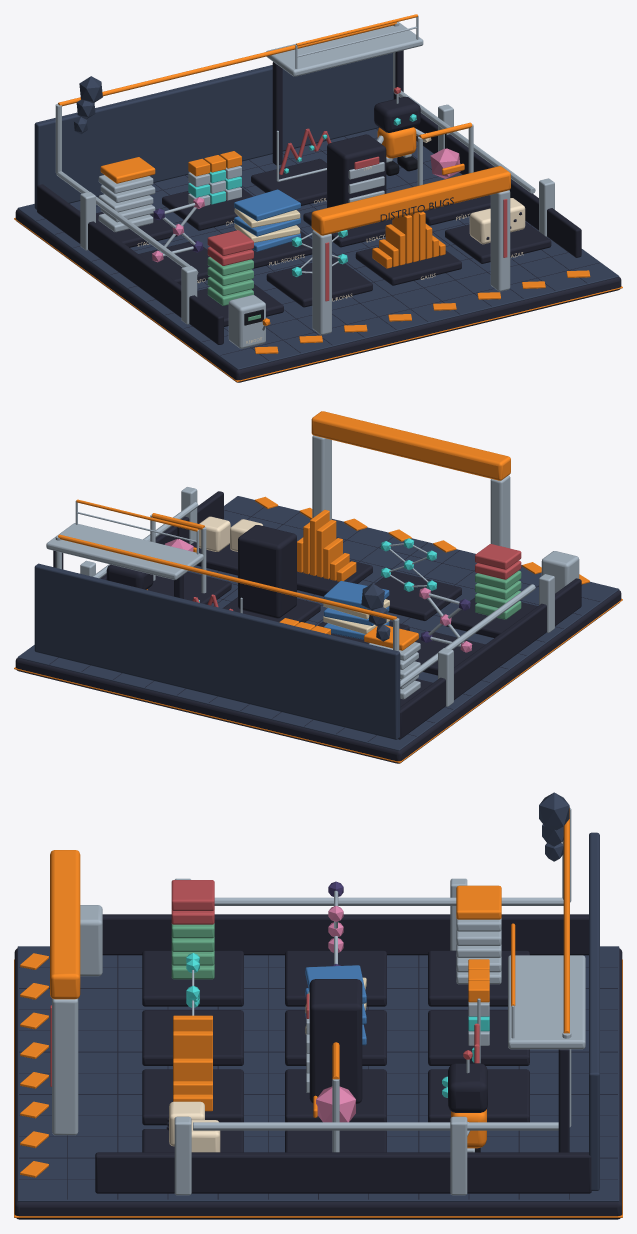
The model's file is bugs.glb.
The picture shows the model from 3 angles, top to bottom: view 1: azimuth 30°, elevation 25°; view 2: azimuth 150°, elevation 25°; view 3: azimuth 270°, elevation 25°; orthographic projection. The views are drawn at different scales.
Parts seen in each view (by area): view 1: Bugs_BackWall, Satin floor.003, Foundation.003, Bugs_SideCurb, Bugs_PortalHeader, Bugs_BalconyDeck, Bugs_SideCurb.001, legacy_Monolith, network_Plinth, overfit_Plinth, Bugs_PortalPillar.001, gauss_Plinth (+33 smaller); view 2: Bugs_BackWall, Satin floor.003, Foundation.003, Bugs_SideCurb, Bugs_PortalHeader, legacy_Monolith, Bugs_BalconyDeck, network_Plinth, Bugs_BackPowerCable, Bugs_PortalPillar.001, Bugs_PortalPillar, pinata_Plinth (+24 smaller); view 3: Satin floor.003, Bugs_SideCurb.001, Bugs_SideCurb, Foundation.003, Bugs_BalconyDeck, legacy_Monolith, Bugs_PortalHeader, tests_Plinth, Bugs_BackWall, table_Plinth, network_Plinth, Bugs_PortalPillar.001 (+33 smaller).
Boxes of the visible parts, x1=… form: Bugs_BackWall: x1=34, y1=53, x2=393, y2=209; Satin floor.003: x1=17, y1=128, x2=619, y2=369; Foundation.003: x1=15, y1=209, x2=621, y2=382; Bugs_SideCurb: x1=37, y1=184, x2=223, y2=344; Bugs_PortalHeader: x1=311, y1=166, x2=510, y2=235; Bugs_BalconyDeck: x1=266, y1=22, x2=423, y2=76; Bugs_SideCurb.001: x1=414, y1=113, x2=581, y2=257; legacy_Monolith: x1=327, y1=134, x2=386, y2=207; network_Plinth: x1=266, y1=257, x2=372, y2=307; overfit_Plinth: x1=251, y1=158, x2=326, y2=205; Bugs_PortalPillar.001: x1=490, y1=190, x2=510, y2=291; gauss_Plinth: x1=355, y1=246, x2=461, y2=285; Bugs_BackWall: x1=34, y1=563, x2=400, y2=739; Satin floor.003: x1=17, y1=496, x2=619, y2=750; Foundation.003: x1=15, y1=590, x2=621, y2=763; Bugs_SideCurb: x1=398, y1=578, x2=581, y2=739; Bugs_PortalHeader: x1=311, y1=411, x2=510, y2=480; legacy_Monolith: x1=238, y1=525, x2=296, y2=618; Bugs_BalconyDeck: x1=46, y1=523, x2=203, y2=579; network_Plinth: x1=374, y1=571, x2=461, y2=620; Bugs_BackPowerCable: x1=58, y1=534, x2=396, y2=620; Bugs_PortalPillar.001: x1=312, y1=435, x2=331, y2=520; Bugs_PortalPillar: x1=490, y1=475, x2=510, y2=548; pinata_Plinth: x1=147, y1=571, x2=231, y2=604; Satin floor.003: x1=17, y1=946, x2=619, y2=1201; Bugs_SideCurb.001: x1=95, y1=1152, x2=591, y2=1193; Bugs_SideCurb: x1=102, y1=914, x2=588, y2=955; Foundation.003: x1=14, y1=948, x2=622, y2=1219; Bugs_BalconyDeck: x1=508, y1=955, x2=585, y2=1049; legacy_Monolith: x1=309, y1=979, x2=362, y2=1103; Bugs_PortalHeader: x1=50, y1=850, x2=80, y2=999; tests_Plinth: x1=142, y1=950, x2=243, y2=1006; Bugs_BackWall: x1=589, y1=832, x2=599, y2=1190; table_Plinth: x1=428, y1=1010, x2=529, y2=1065; network_Plinth: x1=142, y1=1010, x2=243, y2=1065; Bugs_PortalPillar.001: x1=52, y1=998, x2=78, y2=1135.
Size of the model in its own units: 12.14 by 4.54 by 12.14.
